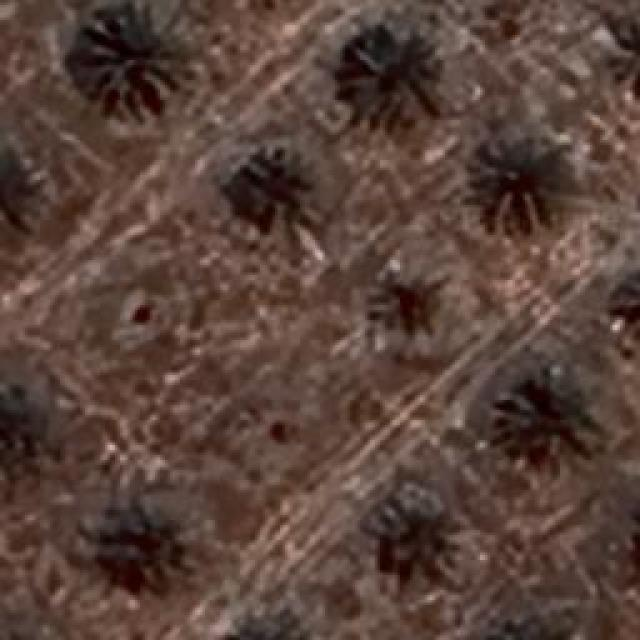PalmTree: (87, 90, 406, 312), (28, 87, 87, 424), (468, 136, 594, 242), (70, 2, 185, 116), (342, 22, 438, 120), (498, 370, 598, 460), (94, 514, 188, 602), (240, 145, 328, 235), (380, 500, 458, 570), (0, 141, 36, 236), (219, 611, 316, 640), (613, 9, 640, 105), (611, 260, 640, 340), (217, 620, 316, 640), (620, 6, 640, 100)
